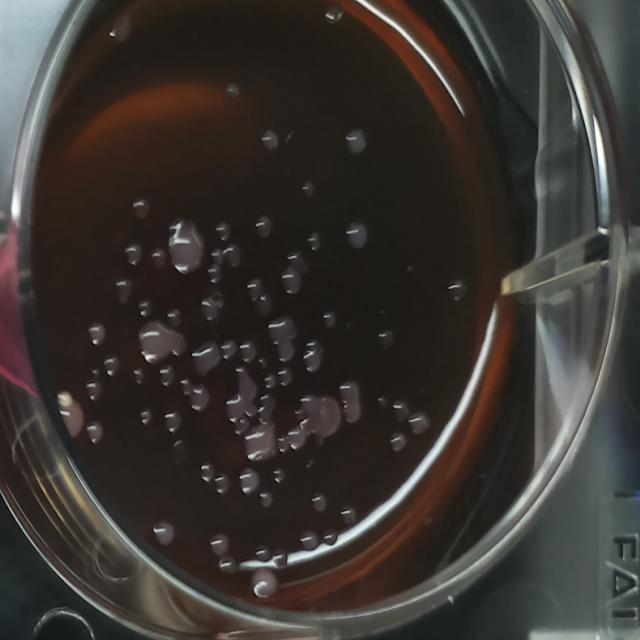Pseudoalteromonas: (343, 123, 370, 162)
Staphylococcus: (55, 388, 74, 412)
